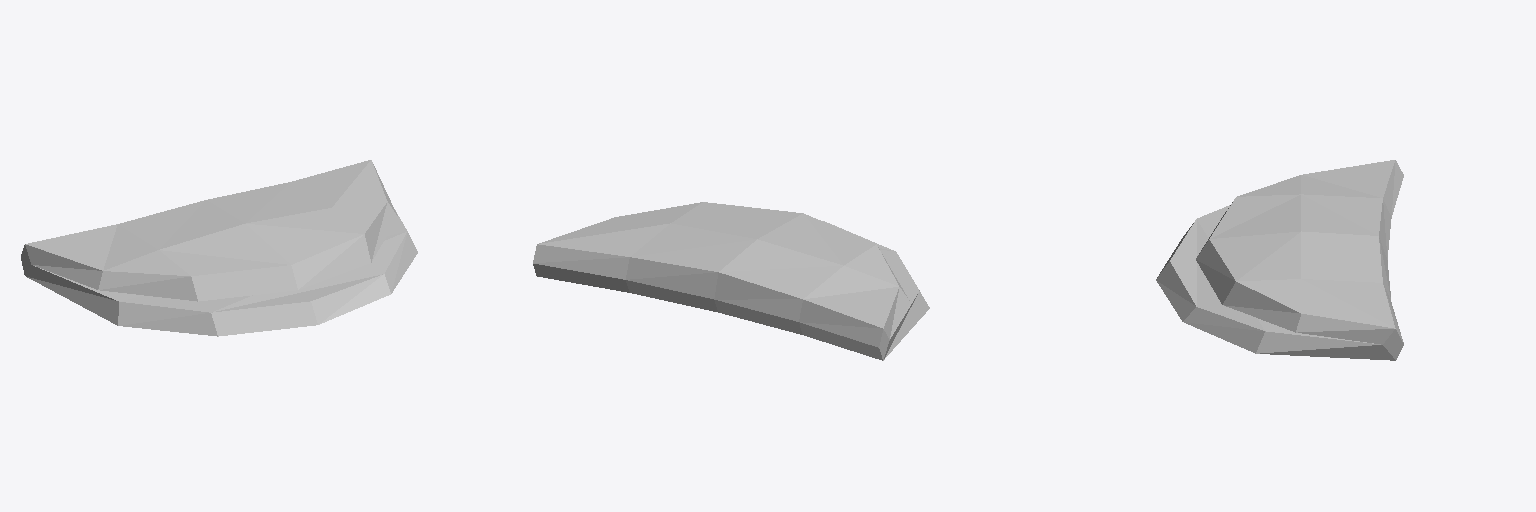
File: Omelette.OBJ
3 renders of one model, left to right at view 1: azimuth 30°, elevation 25°; view 2: azimuth 150°, elevation 25°; view 3: azimuth 270°, elevation 25°, orthographic.
Size of the model in its own units: 0.1584 by 0.0214 by 0.0983.